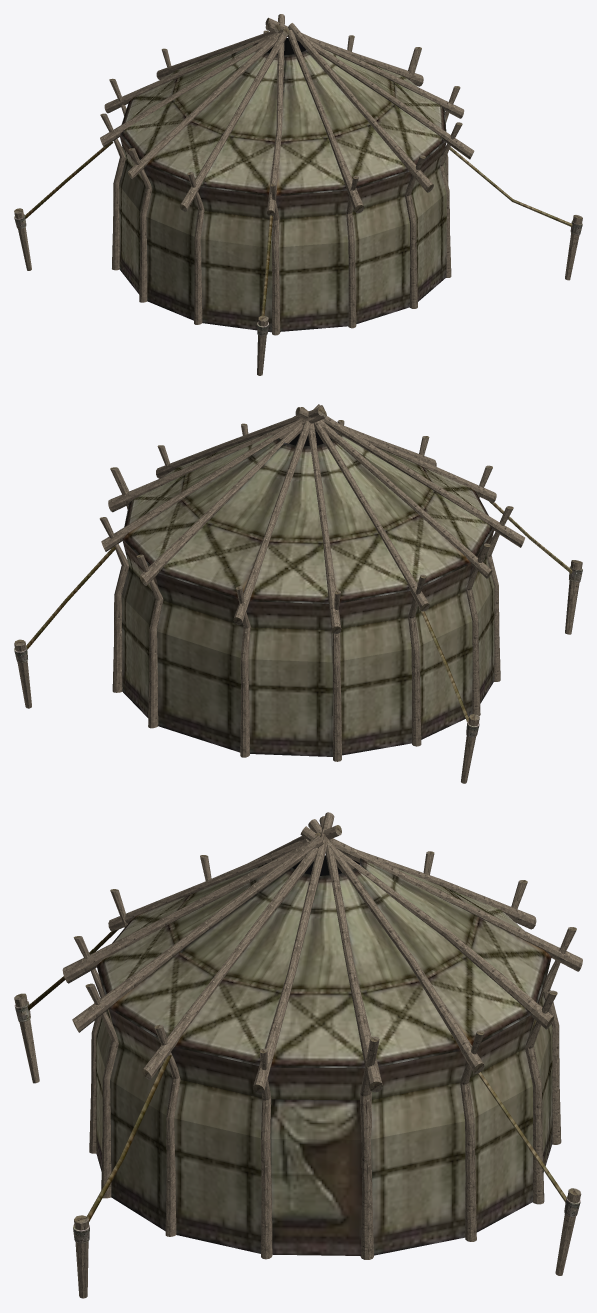
File: TW2_5_CAMP_01_04-transformed.glb
The picture shows the model from 3 angles, top to bottom: view 1: azimuth 30°, elevation 25°; view 2: azimuth 150°, elevation 25°; view 3: azimuth 270°, elevation 25°; orthographic projection. The views are drawn at different scales.
Parts seen in each view (by area): view 1: default; view 2: default; view 3: default.
Boxes of the visible parts, left/top/right/bottom form: default: left=14, top=14, right=582, bottom=375; default: left=14, top=404, right=582, bottom=783; default: left=14, top=812, right=582, bottom=1298.
Size of the model in its own units: 9.1 by 5.18 by 7.69.
Materials: 2 (2 with a texture image).
